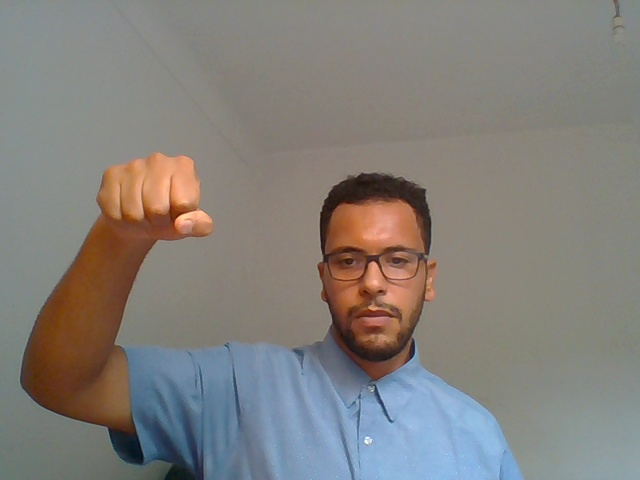yes: (77, 132, 226, 273)
